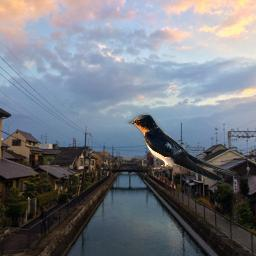Swallow: (126, 111, 238, 183)
